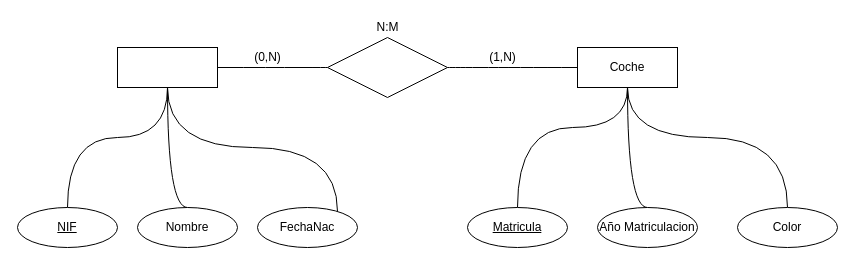
Image size: 855x265. Some labels were removed from this diagram. Each missing label, with the box of its shape:
Cliente: (116, 46, 218, 88)
Tiene: (326, 36, 448, 98)
